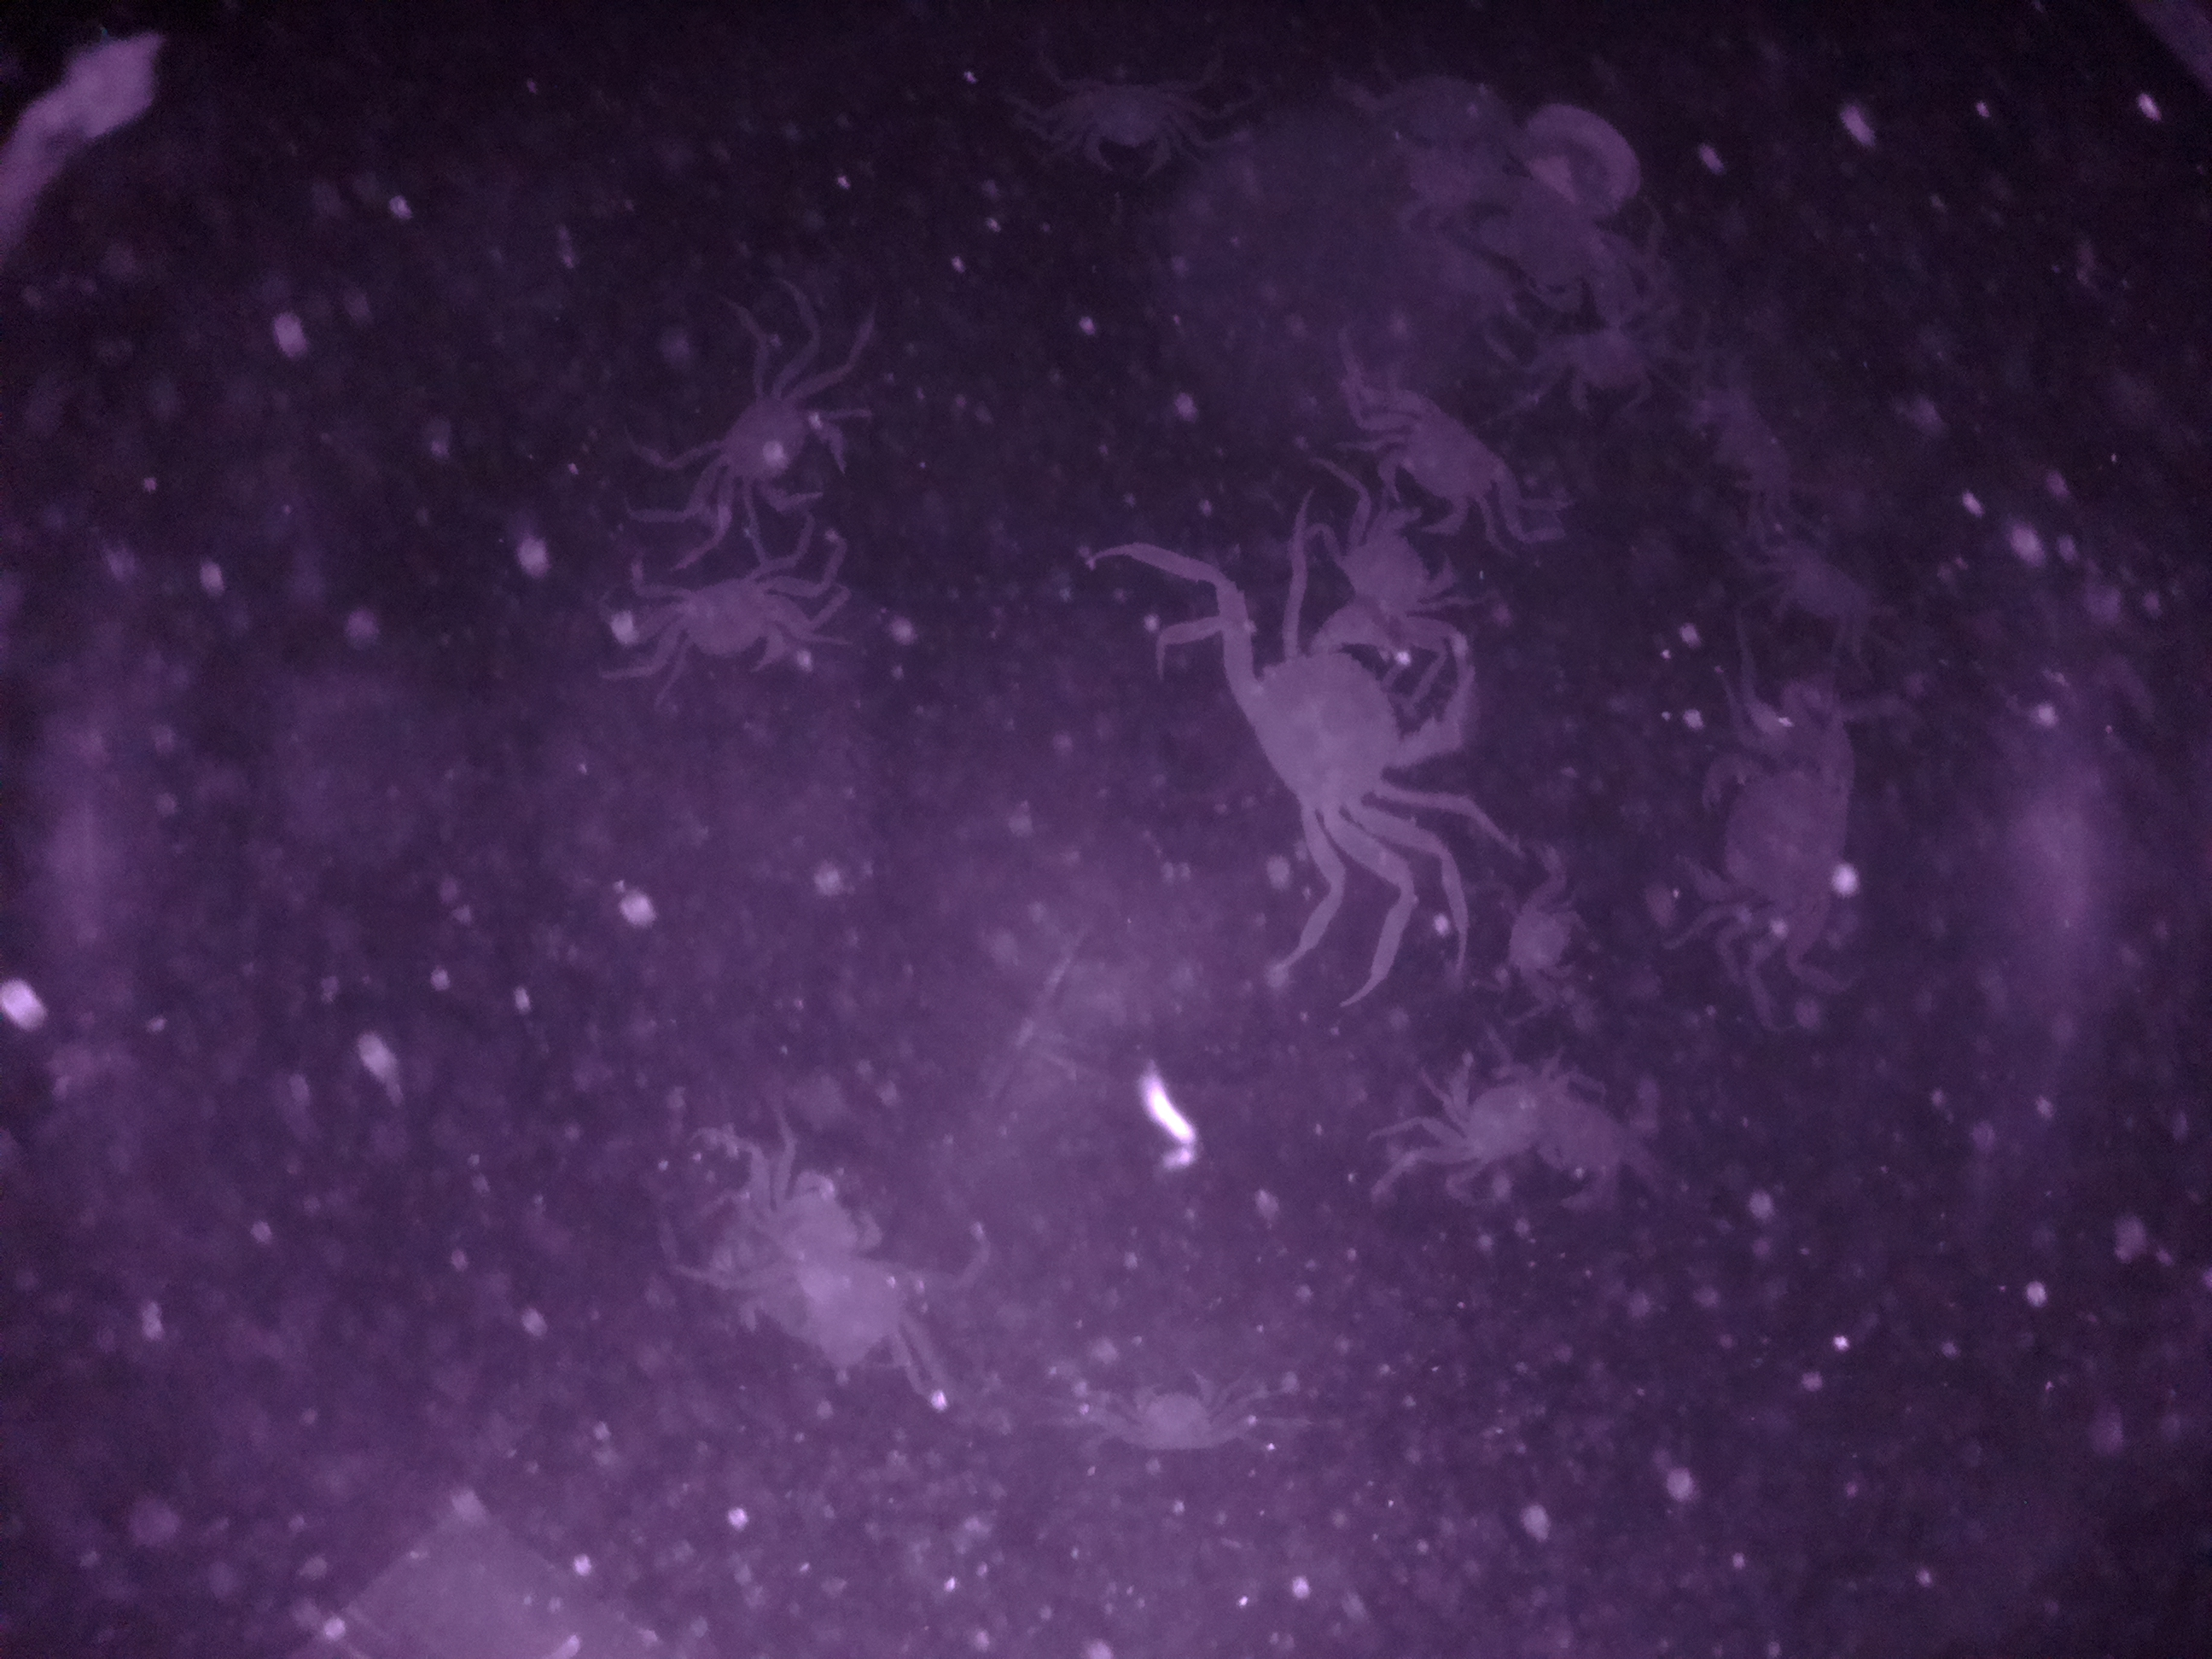Crab: (1202, 580, 1491, 890), (1350, 394, 1550, 556), (688, 364, 873, 533), (617, 554, 829, 697)
